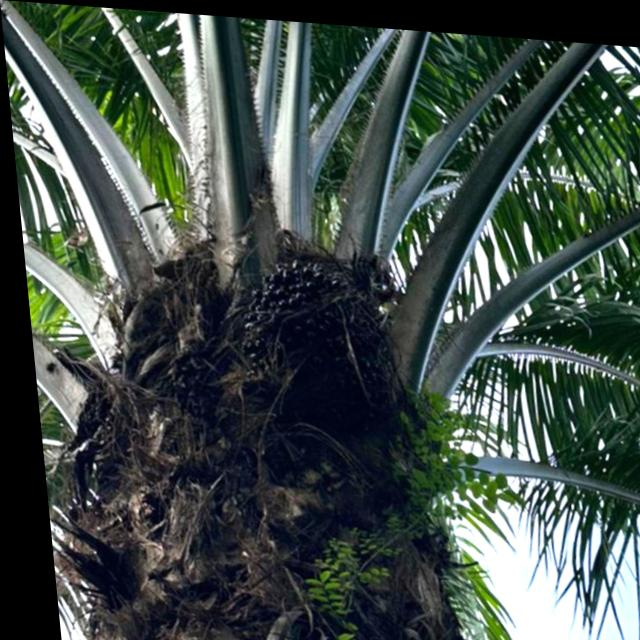almost: (231, 245, 399, 443)
